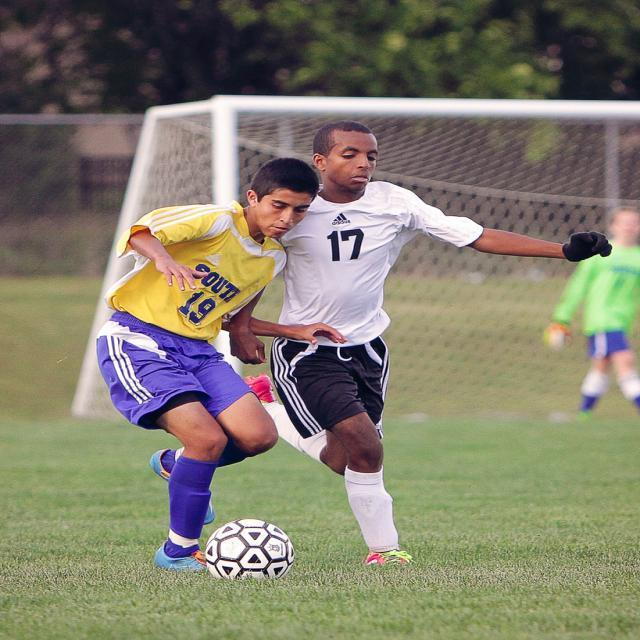football: (202, 510, 300, 592)
